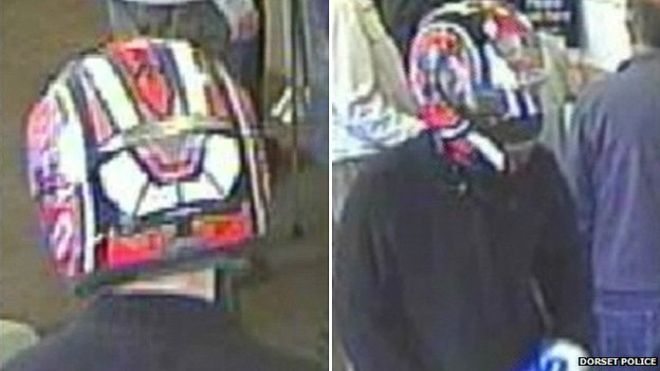helmet: (12, 32, 284, 298), (401, 1, 560, 172)
